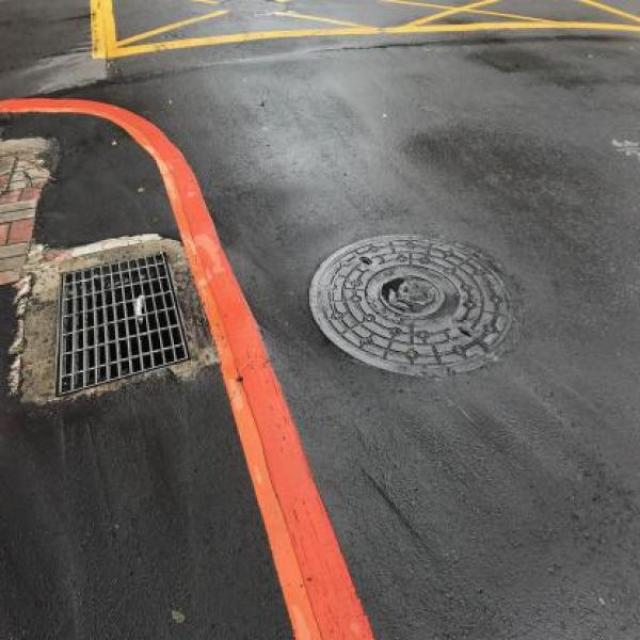Good: (304, 230, 526, 385)
